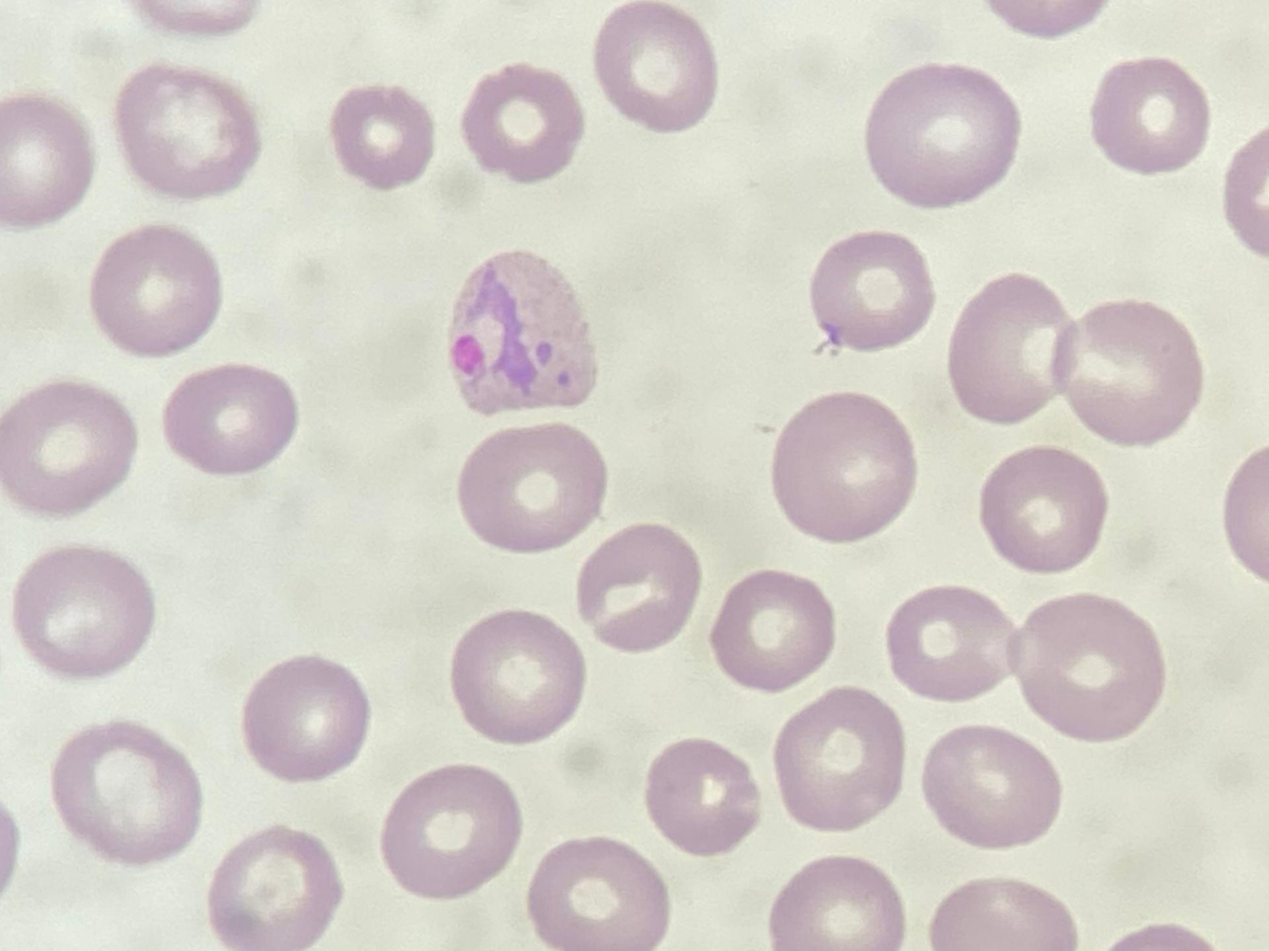Infected: (449, 247, 601, 415)
Uninfected: (868, 62, 1021, 211), (1049, 300, 1201, 449), (55, 717, 203, 865), (1009, 596, 1160, 741), (776, 393, 914, 543), (780, 681, 906, 831), (15, 547, 156, 680), (950, 272, 1072, 423), (86, 225, 226, 356), (119, 67, 257, 199), (456, 421, 602, 545), (383, 767, 520, 899), (449, 604, 574, 747), (921, 723, 1058, 852), (0, 384, 132, 514), (590, 1, 718, 130), (580, 516, 695, 658), (212, 825, 339, 951), (985, 444, 1105, 574), (529, 836, 662, 951), (161, 366, 297, 477), (247, 655, 364, 783), (705, 571, 834, 684), (463, 67, 586, 184), (1091, 56, 1207, 174), (764, 853, 903, 951), (820, 234, 931, 356), (890, 591, 1016, 697), (0, 91, 94, 230), (650, 741, 761, 858), (330, 84, 432, 189)
